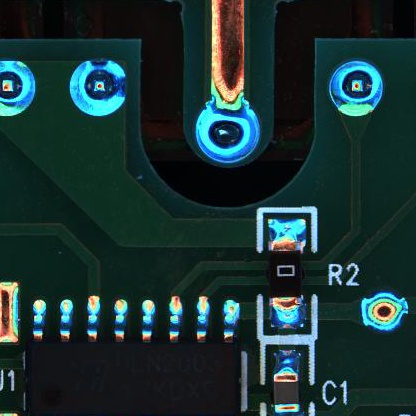spot: (195, 103, 263, 165), (69, 59, 127, 118), (327, 60, 383, 116), (361, 292, 408, 334)
